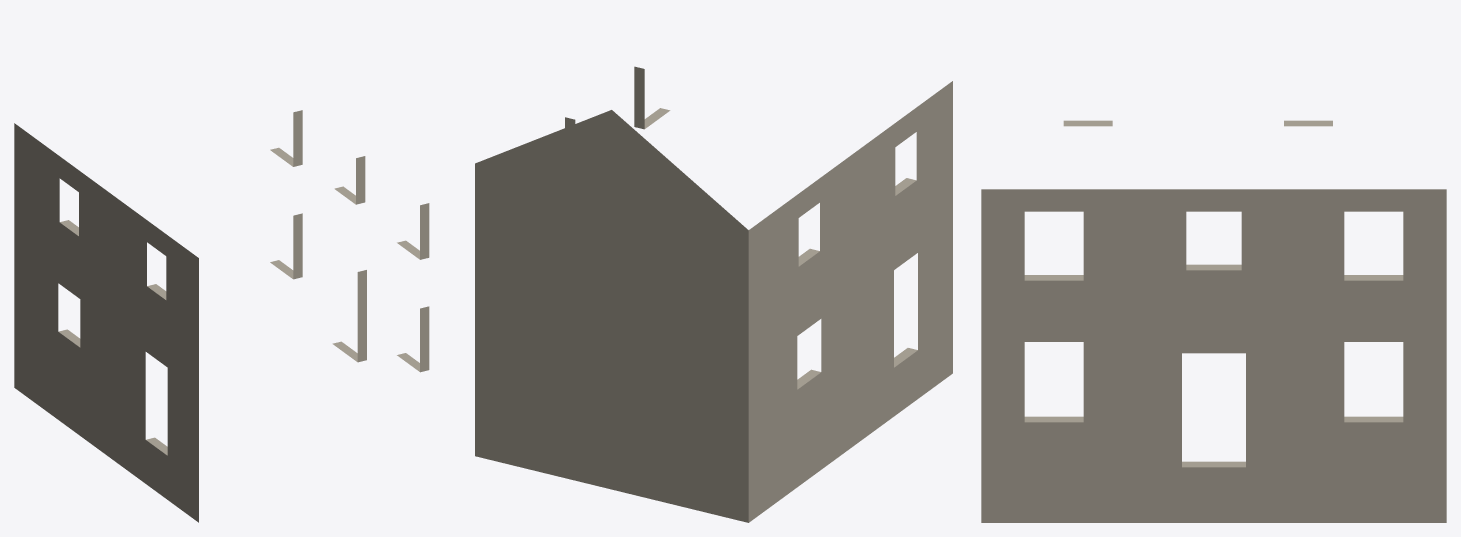
File: SM_Bld_098_Render.glb
3 views of the same model, side by side, from view 1: azimuth 30°, elevation 25°; view 2: azimuth 150°, elevation 25°; view 3: azimuth 270°, elevation 25° (orthographic). The views are drawn at different scales.
Visible parts, largest first — view 1: SM_Bld_098_Render; view 2: SM_Bld_098_Render; view 3: SM_Bld_098_Render.
Boxes of the visible parts, bbox=[...] form: SM_Bld_098_Render: bbox=[14, 110, 429, 522]; SM_Bld_098_Render: bbox=[475, 66, 952, 522]; SM_Bld_098_Render: bbox=[981, 120, 1446, 522].
Size of the model in its own units: 5.87 by 7.79 by 7.59.
